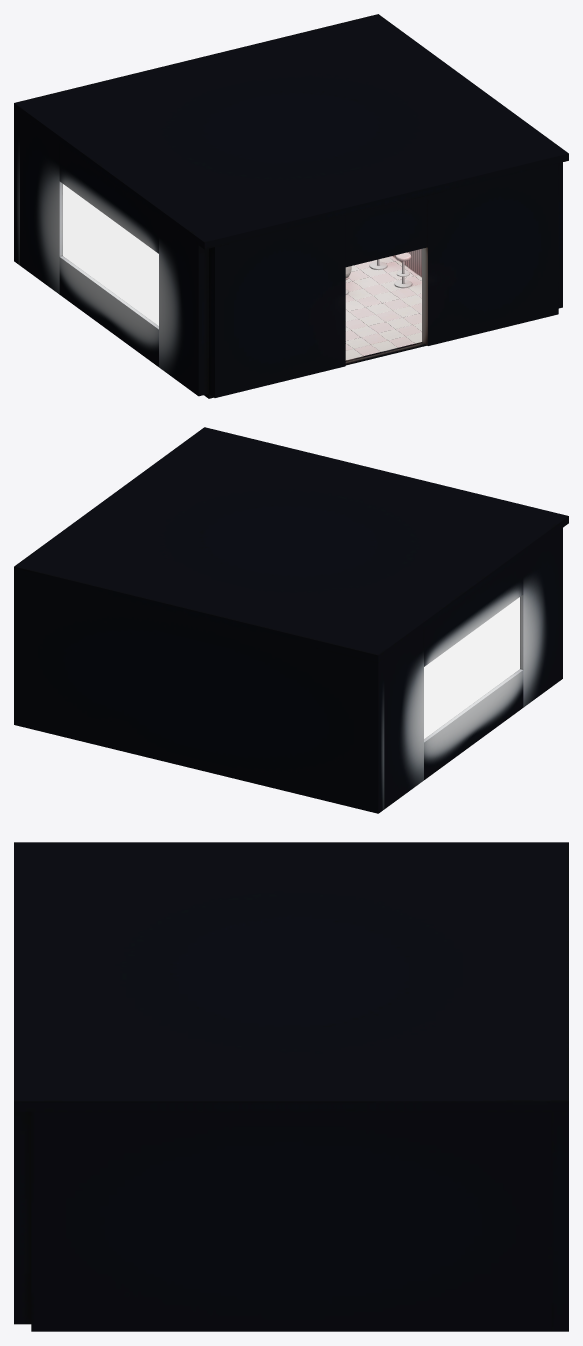
File: room_kitty.glb
The picture shows the model from 3 angles, top to bottom: view 1: azimuth 30°, elevation 25°; view 2: azimuth 150°, elevation 25°; view 3: azimuth 270°, elevation 25°; orthographic projection. The views are drawn at different scales.
Parts seen in each view (by area): view 1: baked_ceiling, baked_walls, window_glass, baked_floor, baked_furn; view 2: baked_walls, baked_ceiling, window_glass; view 3: baked_ceiling, baked_walls.
Part boxes in pixels (x1,y1,x2,y2): baked_ceiling: (14,14,568,249); baked_walls: (14,110,562,397); window_glass: (63,184,158,325); baked_floor: (204,256,426,398); baked_furn: (345,249,421,294); baked_walls: (14,528,562,813); baked_ceiling: (14,427,568,662); window_glass: (424,597,519,738); baked_ceiling: (14,842,568,1111); baked_walls: (14,1111,568,1331).
Bounding box in the file's own units: 10.6 × 4.54 × 9.6.
Materials: 8 (4 with a texture image).
